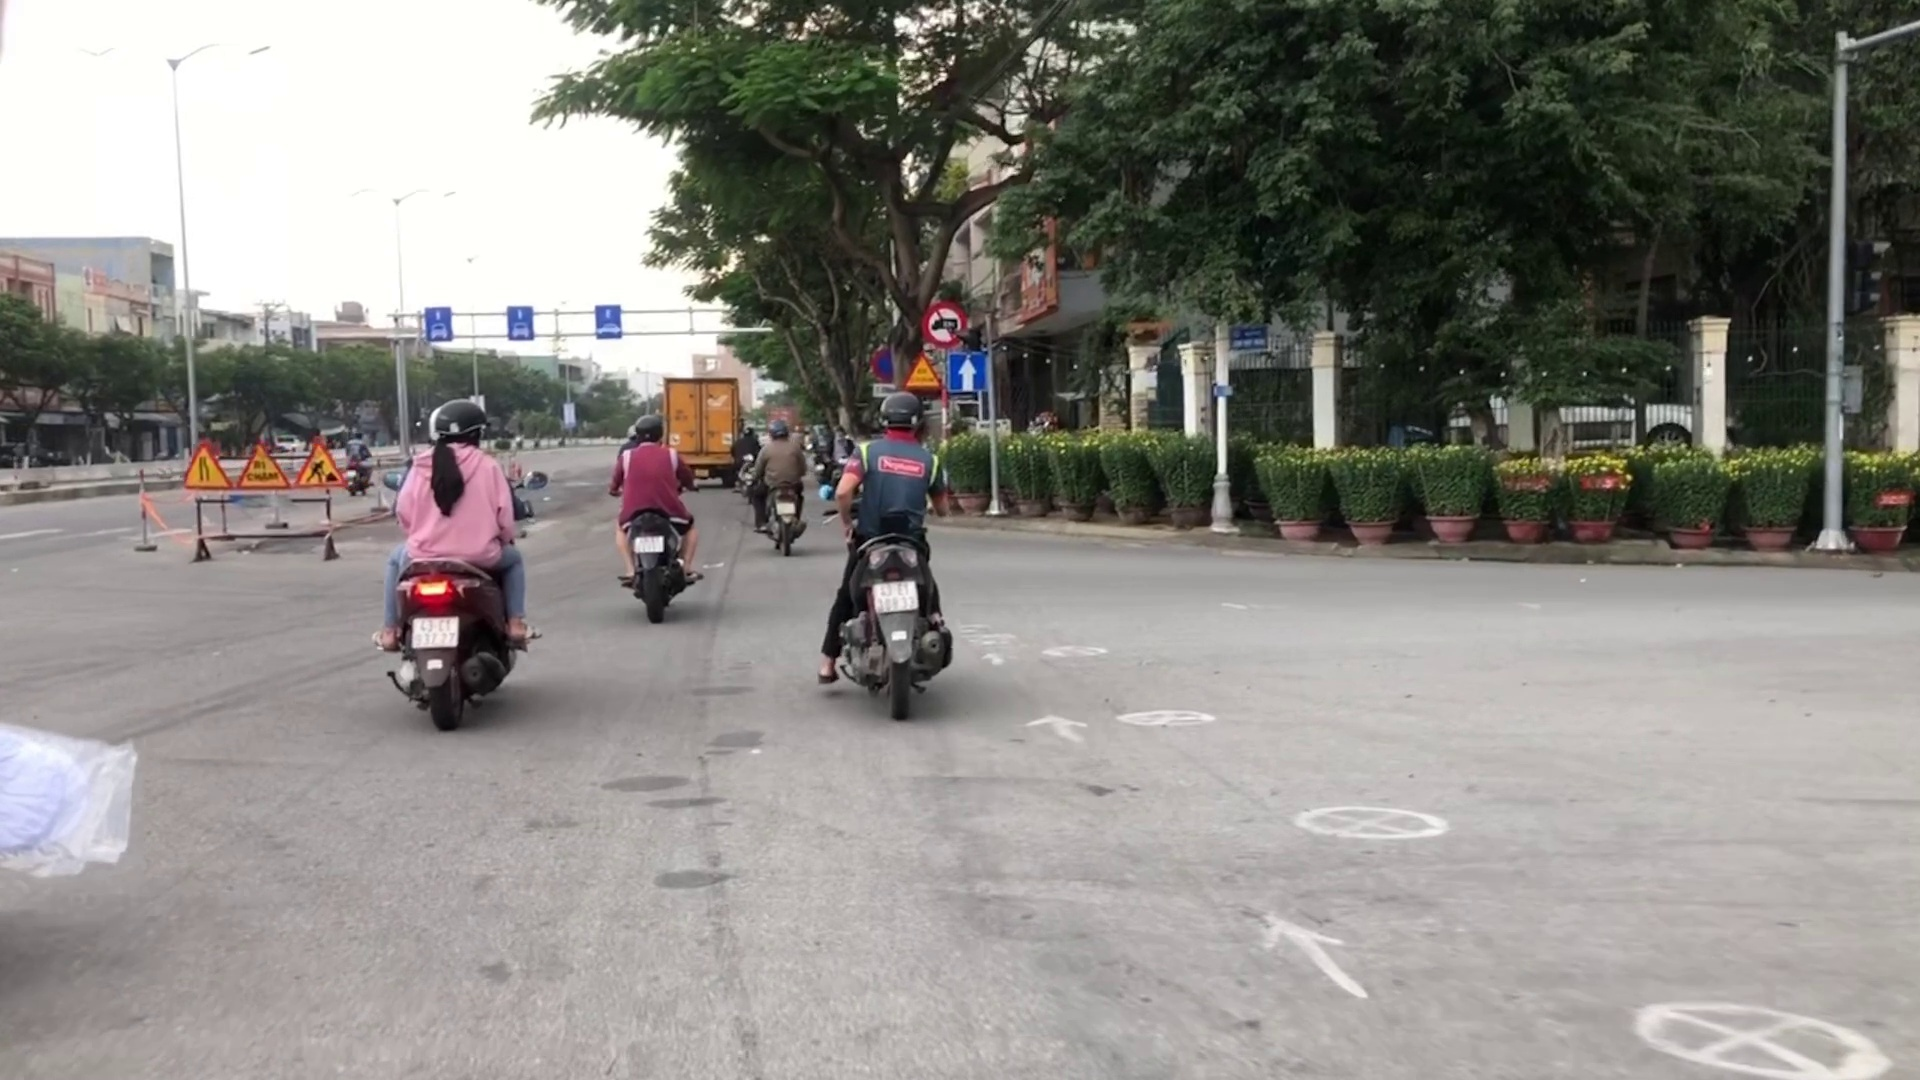Bien khac: (899, 352, 942, 394), (924, 301, 964, 345), (952, 351, 992, 394)
